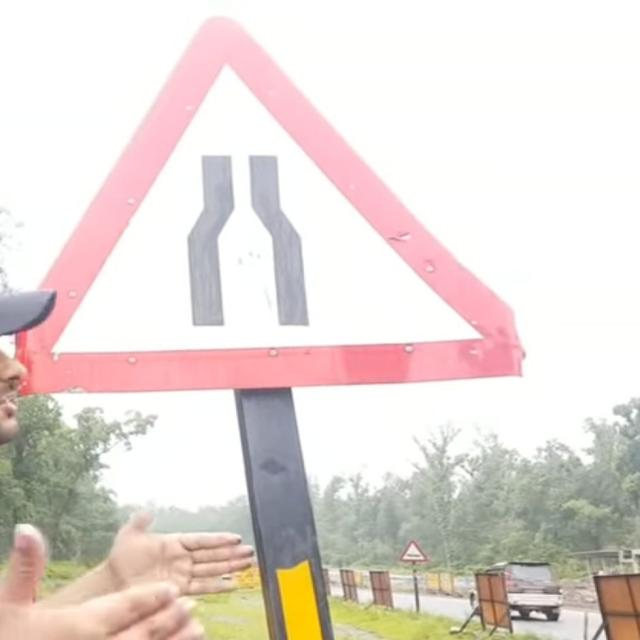narrowroad_ahead: (73, 4, 534, 413)
